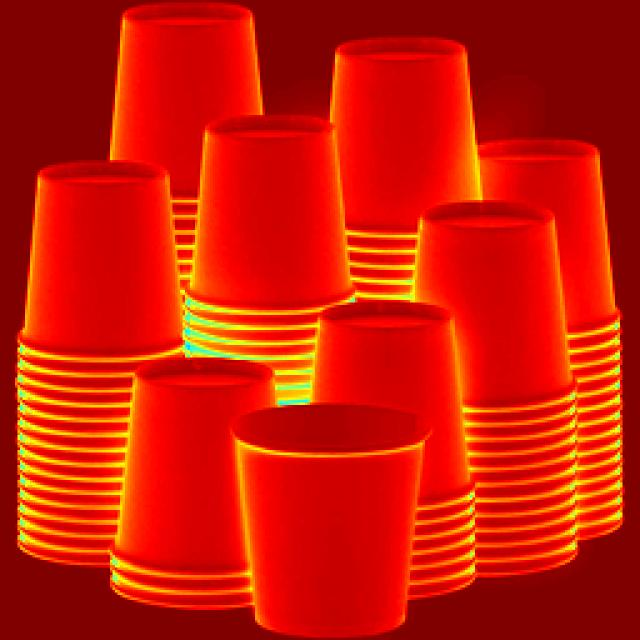Paper Cups: (255, 406, 418, 614), (334, 13, 469, 230), (124, 336, 243, 565), (197, 116, 327, 312), (121, 5, 261, 183), (39, 169, 173, 353), (339, 304, 469, 459), (497, 118, 606, 298), (434, 215, 548, 377)
